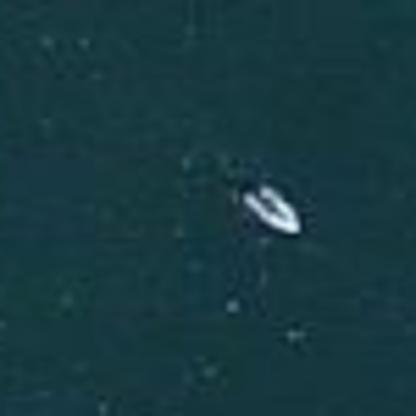ship: (233, 176, 310, 243)
